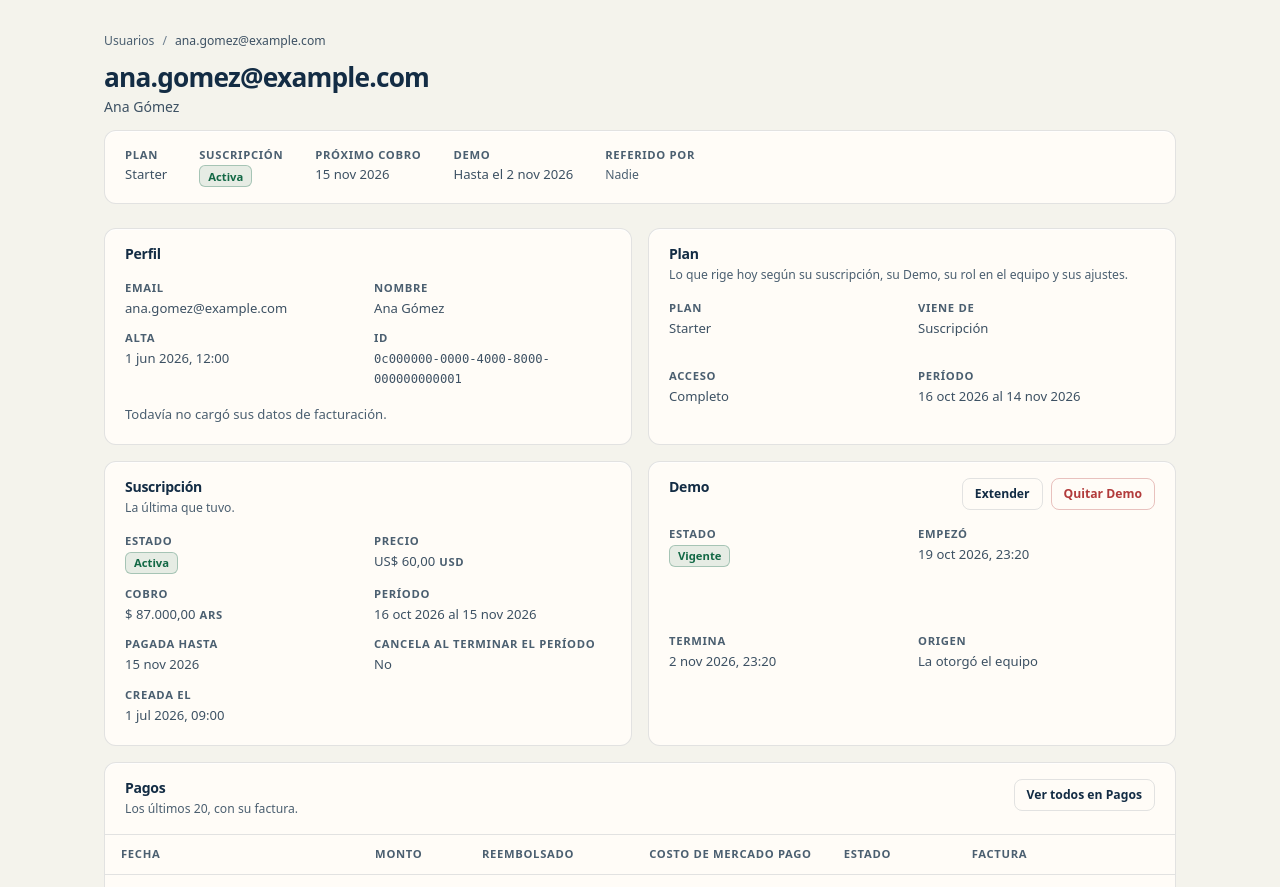
CustomerDetailScreen › extends a running Demo and says when it ends
Click the button "Extender" at (1002, 494), box [962,478,1043,510]
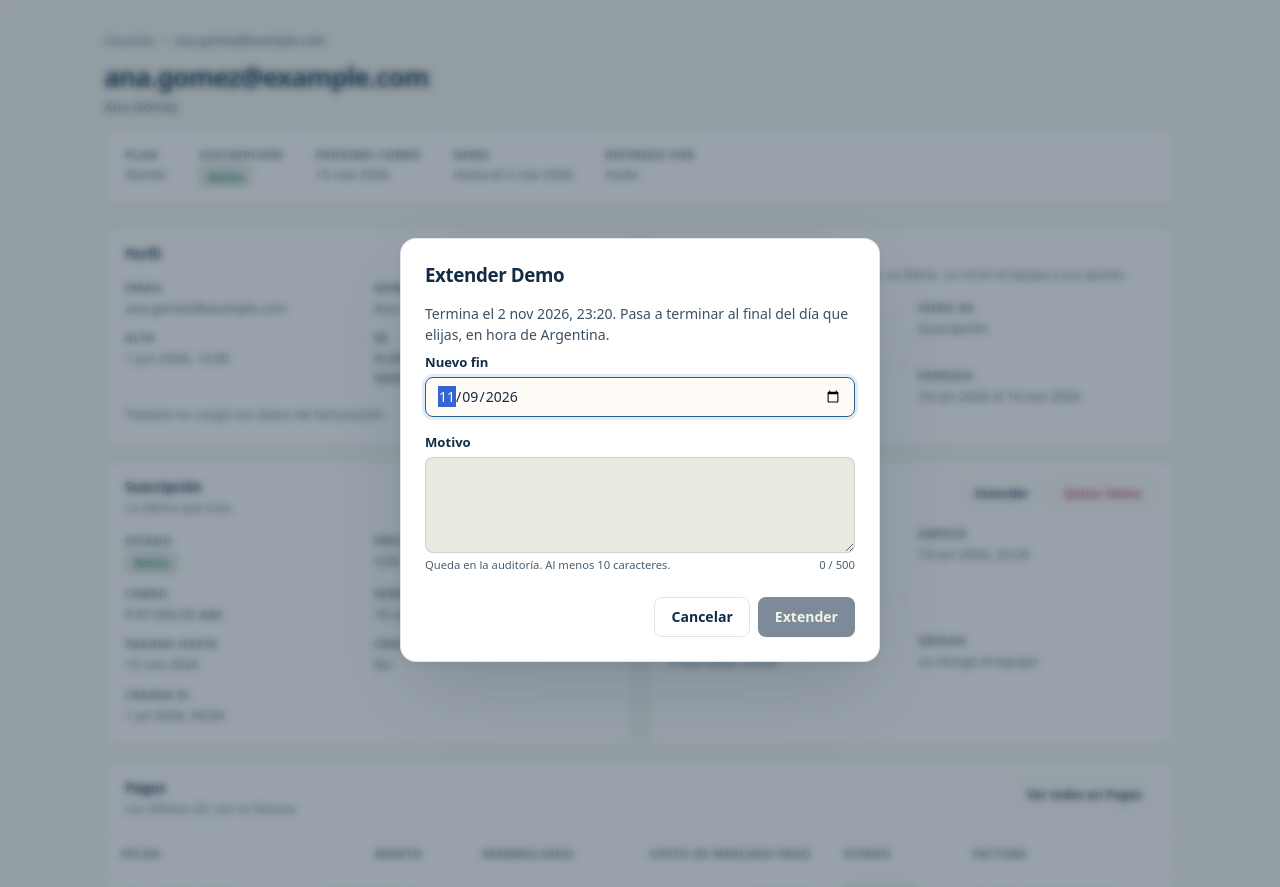
Type "Lo pidió el cliente por mail" into the text box labelled "Motivo" at (640, 504), box [425,456,855,552]
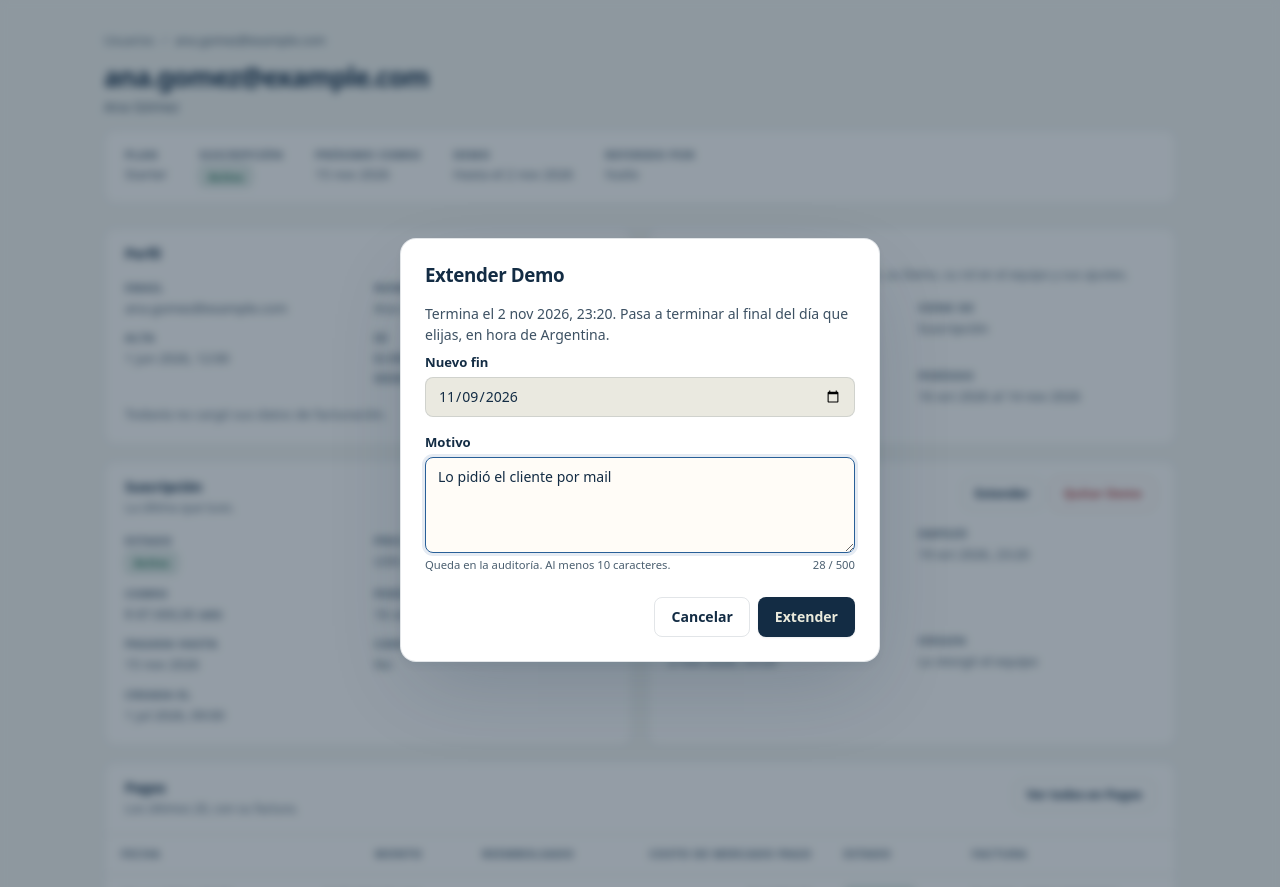
Click the button "Extender" at (806, 617), box [758,597,855,637]
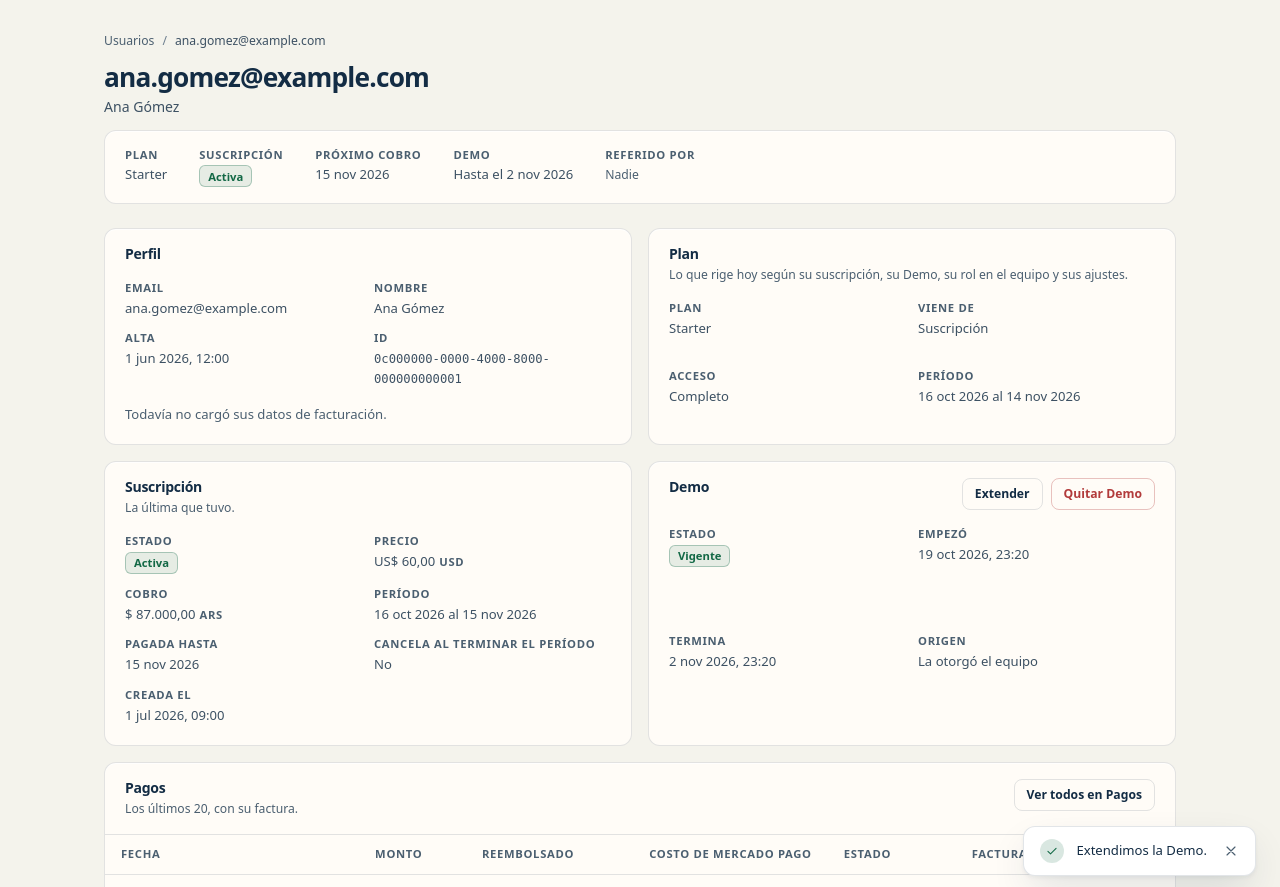
Check: the text "Extendimos la Demo." is shown, box [1076,841,1207,861]
